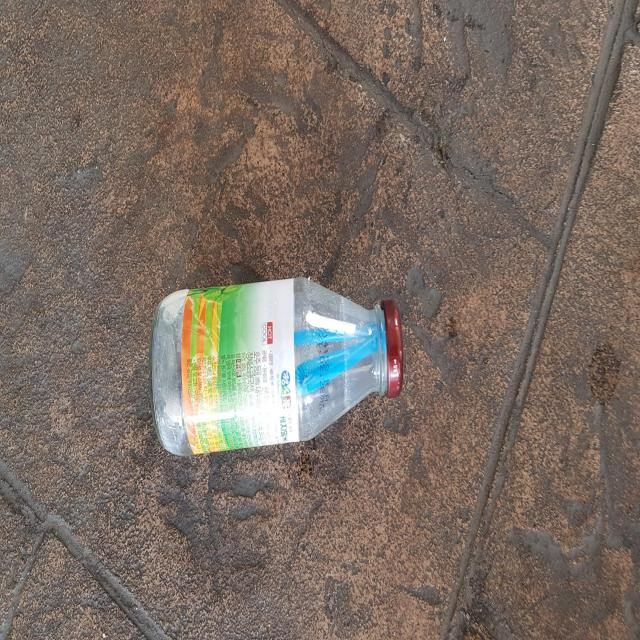glass: (149, 277, 403, 456)
